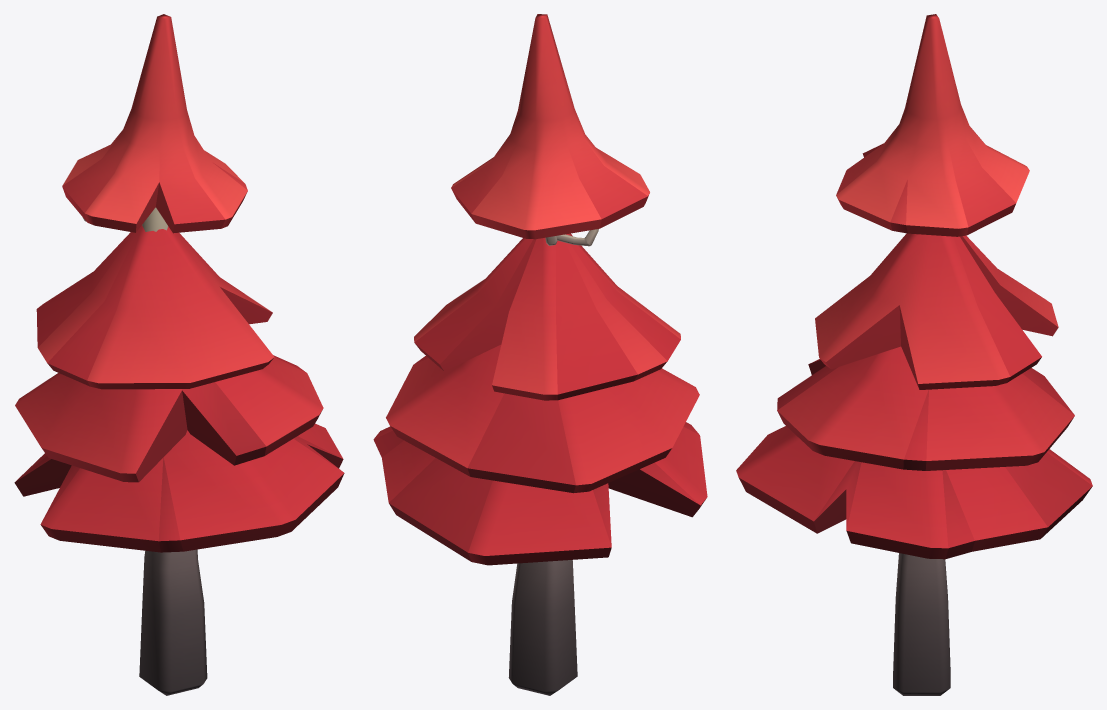
Rendered from pine_tree_col3_9.fbx.
3 views of the same model, side by side, from view 1: azimuth 30°, elevation 25°; view 2: azimuth 150°, elevation 25°; view 3: azimuth 270°, elevation 25° (orthographic).
Visible parts, largest first — view 1: tree_pine_col3_9; view 2: tree_pine_col3_9; view 3: tree_pine_col3_9.
Boxes of the visible parts, x1,y1,x2,y2 form: tree_pine_col3_9: (14,14,344,695); tree_pine_col3_9: (373,14,707,695); tree_pine_col3_9: (736,14,1092,695).
Size of the model in its own units: 379 by 801 by 387.
1 material, 1 textured.
